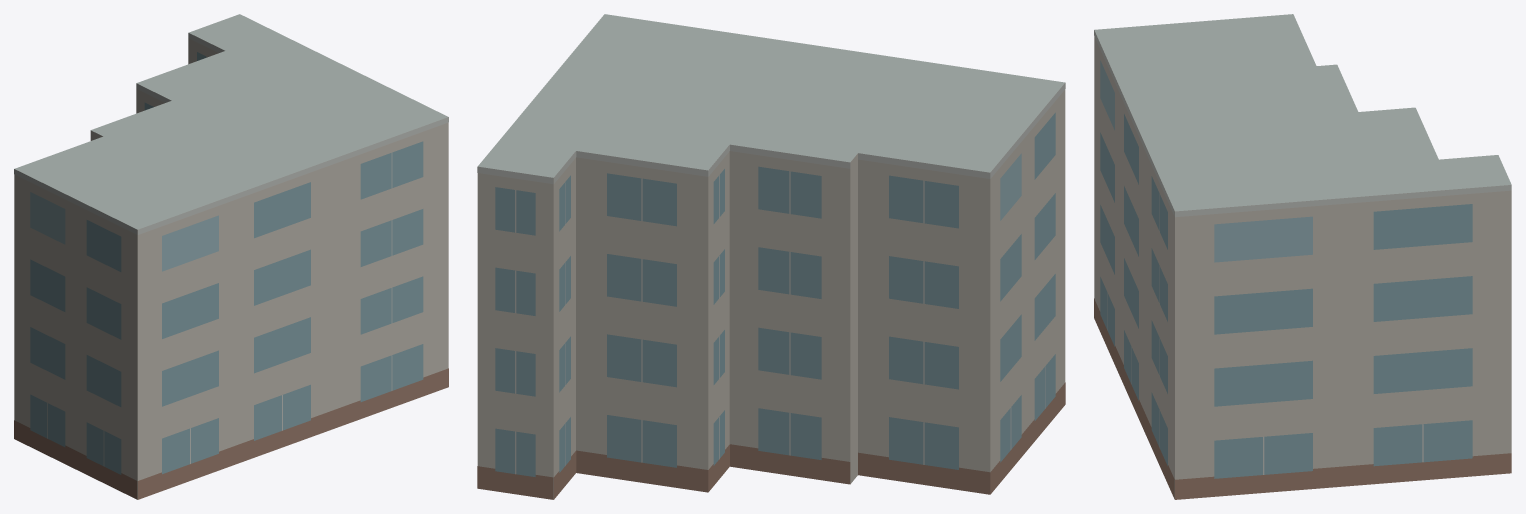
Rendered from residential-08742883-9c3b-4fda-9f1c-5e81d07fd56d.glb.
3 views of the same model, side by side, from view 1: azimuth 30°, elevation 25°; view 2: azimuth 150°, elevation 25°; view 3: azimuth 270°, elevation 25° (orthographic). The views are drawn at different scales.
Visible parts, largest first — view 1: residential-08742883-9c3b-4fda-9f1c-5e81d07fd56d.tmp; view 2: residential-08742883-9c3b-4fda-9f1c-5e81d07fd56d.tmp; view 3: residential-08742883-9c3b-4fda-9f1c-5e81d07fd56d.tmp.
Boxes of the visible parts, x1=… form: residential-08742883-9c3b-4fda-9f1c-5e81d07fd56d.tmp: x1=14, y1=14, x2=448, y2=499; residential-08742883-9c3b-4fda-9f1c-5e81d07fd56d.tmp: x1=477, y1=14, x2=1065, y2=499; residential-08742883-9c3b-4fda-9f1c-5e81d07fd56d.tmp: x1=1094, y1=14, x2=1511, y2=499.
Size of the model in its own units: 17.92 by 12.2 by 16.02.
